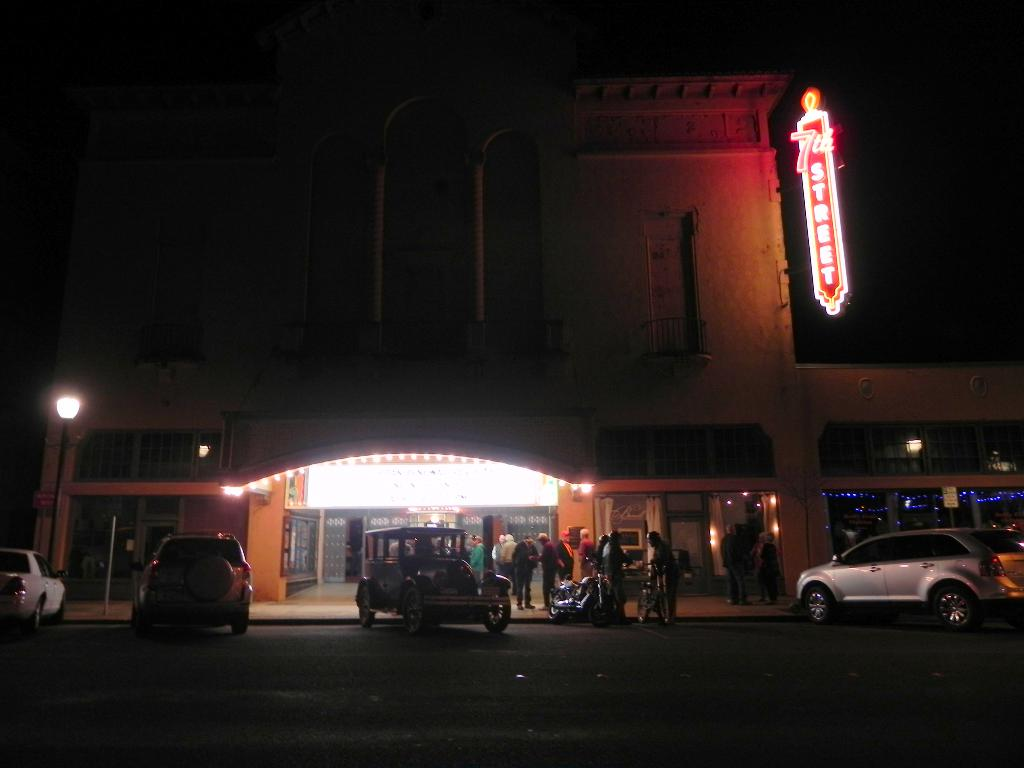Wheel: (927, 575, 997, 643), (481, 590, 509, 633), (404, 586, 425, 634), (589, 596, 618, 626), (808, 589, 832, 625), (357, 588, 376, 627), (549, 595, 570, 623), (636, 590, 650, 621), (660, 593, 673, 623), (27, 605, 41, 631), (134, 605, 150, 627), (233, 617, 248, 638), (431, 545, 450, 554), (54, 605, 62, 622)
